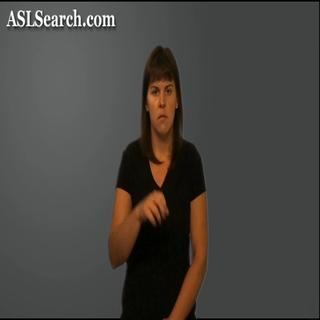yes: (134, 185, 173, 230)
